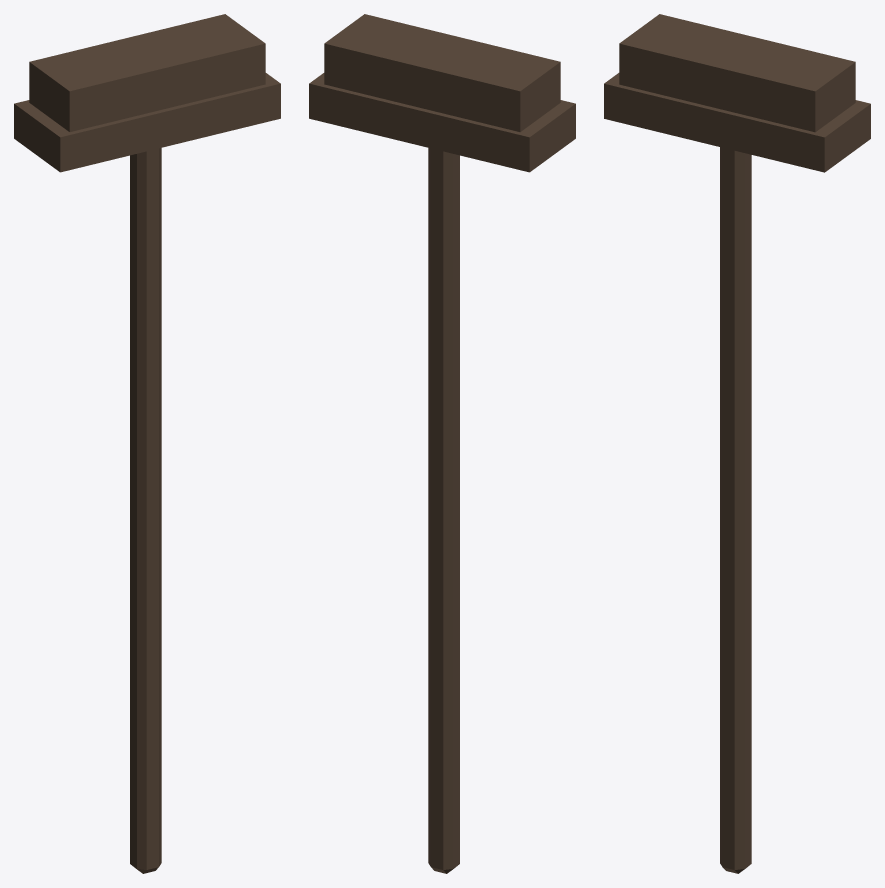
Rendered from Mop.fbx.
3 renders of one model, left to right at view 1: azimuth 30°, elevation 25°; view 2: azimuth 150°, elevation 25°; view 3: azimuth 330°, elevation 25°, orthographic.
Parts seen in each view (by area): view 1: pCube84, pCube86, pCube85; view 2: pCube84, pCube86, pCube85; view 3: pCube84, pCube86, pCube85.
Boxes of the visible parts, left/top/right/bottom form: pCube84: left=130, top=148, right=161, bottom=873; pCube86: left=29, top=14, right=265, bottom=131; pCube85: left=14, top=73, right=280, bottom=172; pCube84: left=428, top=148, right=459, bottom=873; pCube86: left=324, top=14, right=560, bottom=131; pCube85: left=309, top=73, right=575, bottom=172; pCube84: left=720, top=147, right=751, bottom=873; pCube86: left=619, top=14, right=855, bottom=132; pCube85: left=604, top=73, right=870, bottom=172.
Bounding box in the file's own units: 1.35 × 4.79 × 0.4908.
